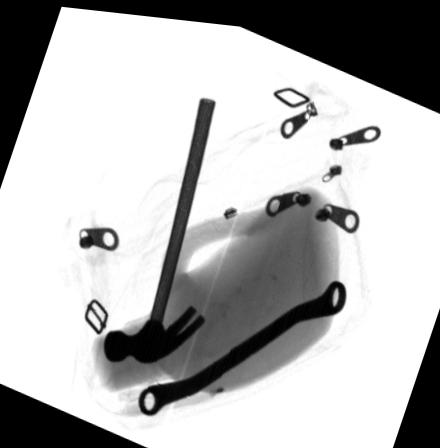Hammer: (103, 90, 218, 362)
Wrench: (137, 272, 348, 413)
